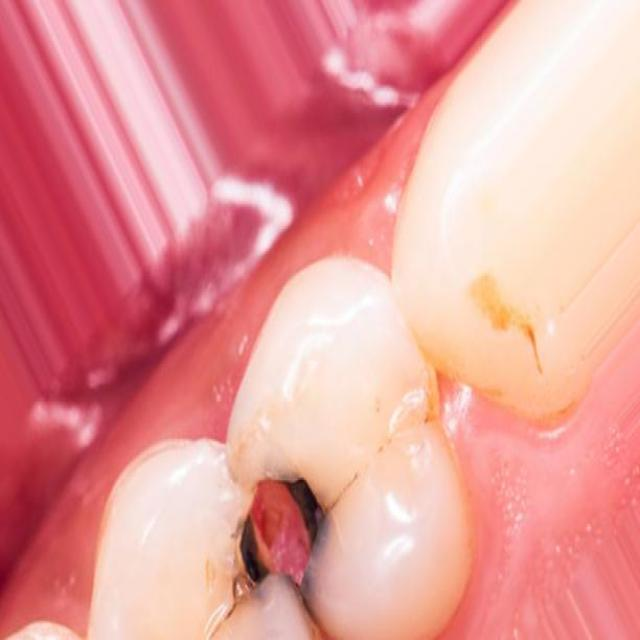caries: (208, 430, 365, 640)
